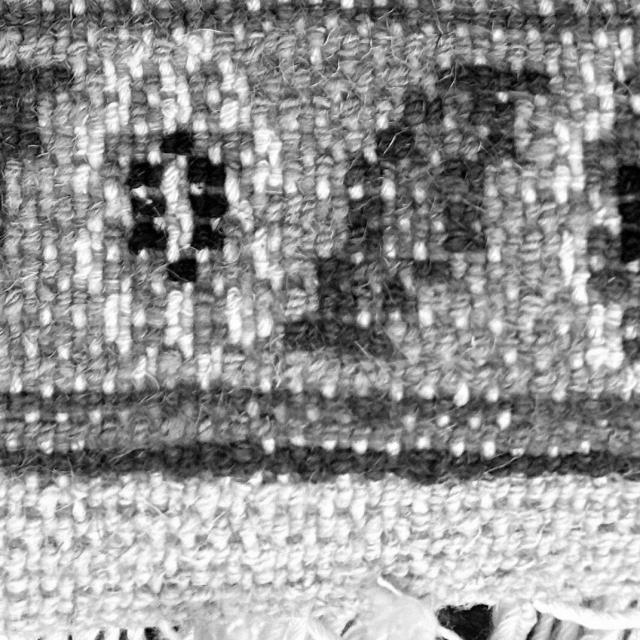Knot: (52, 158, 90, 216), (436, 604, 492, 640), (39, 248, 76, 300), (555, 122, 585, 180), (22, 280, 55, 329), (74, 117, 106, 167), (225, 282, 249, 346), (346, 164, 383, 204), (74, 227, 104, 274), (188, 74, 224, 112), (98, 158, 128, 202), (252, 280, 274, 340), (130, 220, 166, 256), (116, 354, 146, 397), (253, 114, 281, 160), (28, 152, 56, 196), (310, 200, 336, 247), (72, 199, 108, 232), (154, 346, 182, 388), (116, 30, 145, 70), (22, 356, 56, 390), (71, 70, 105, 104), (560, 30, 594, 64), (540, 210, 562, 261), (131, 134, 164, 168), (418, 262, 450, 296), (442, 93, 474, 126), (168, 246, 197, 282), (614, 111, 640, 151), (384, 395, 418, 425), (70, 450, 104, 480), (485, 274, 506, 322), (482, 104, 514, 135), (400, 32, 426, 70), (222, 346, 244, 390), (585, 338, 608, 380), (132, 190, 164, 220), (586, 0, 614, 34), (587, 227, 618, 257), (192, 217, 220, 250), (191, 192, 226, 218), (196, 348, 218, 389), (200, 444, 230, 474), (195, 481, 220, 517), (586, 478, 614, 510), (0, 28, 23, 66), (250, 483, 278, 514), (208, 514, 232, 550), (526, 134, 558, 161), (360, 360, 390, 388), (67, 36, 88, 76), (20, 230, 44, 265), (106, 134, 134, 164), (536, 332, 564, 362), (562, 203, 592, 231), (390, 219, 413, 255), (166, 281, 191, 314), (23, 319, 43, 360), (353, 284, 383, 311), (133, 323, 165, 348), (282, 158, 304, 194), (604, 307, 626, 342), (53, 362, 75, 397), (485, 227, 507, 262), (140, 374, 164, 406), (220, 92, 240, 130), (231, 482, 251, 520), (258, 352, 278, 390), (74, 390, 102, 417), (12, 132, 40, 159), (541, 254, 563, 288), (176, 380, 198, 414), (496, 166, 520, 197), (54, 422, 76, 455), (162, 132, 192, 156), (470, 296, 490, 332), (162, 414, 186, 444), (298, 133, 318, 169), (52, 132, 76, 162), (470, 332, 494, 362), (348, 198, 379, 221), (464, 262, 486, 294), (608, 27, 636, 52), (160, 94, 180, 129), (220, 586, 242, 617), (620, 362, 640, 396), (0, 420, 24, 448), (286, 321, 310, 349), (179, 508, 200, 540), (606, 273, 630, 301), (320, 359, 340, 392), (52, 96, 74, 126), (449, 23, 471, 53), (18, 392, 40, 422), (336, 96, 362, 121), (542, 42, 562, 74), (104, 228, 124, 260), (52, 290, 72, 322), (52, 390, 72, 422), (335, 475, 353, 510), (2, 165, 23, 195), (252, 194, 273, 224), (415, 129, 440, 154), (378, 131, 402, 157), (286, 281, 306, 312), (324, 79, 352, 101), (618, 166, 640, 194), (72, 336, 94, 364), (441, 365, 463, 393), (129, 105, 149, 135), (428, 214, 448, 244), (620, 200, 640, 230), (189, 158, 209, 188), (520, 287, 544, 312), (250, 66, 280, 86), (283, 224, 303, 254), (102, 261, 124, 288), (448, 203, 470, 230), (512, 101, 534, 128), (162, 162, 180, 195), (553, 1, 574, 29), (488, 136, 512, 160), (150, 474, 168, 506), (242, 355, 260, 387), (352, 480, 370, 512), (587, 306, 605, 338), (441, 173, 466, 196), (475, 364, 498, 389), (2, 292, 24, 318), (0, 254, 22, 280), (8, 336, 27, 366), (39, 490, 58, 520), (621, 233, 640, 263), (625, 77, 640, 115), (36, 66, 56, 94), (52, 462, 72, 490), (0, 355, 14, 395), (314, 482, 334, 510), (418, 366, 438, 394), (512, 351, 532, 379), (216, 55, 236, 83), (152, 34, 174, 59), (0, 228, 22, 253), (229, 388, 250, 414), (282, 368, 303, 394), (526, 452, 547, 478), (424, 100, 442, 130), (450, 302, 470, 329), (416, 417, 434, 447), (570, 358, 588, 388), (70, 0, 88, 30), (159, 60, 177, 90), (306, 350, 324, 380), (232, 466, 262, 484), (130, 415, 149, 443), (499, 364, 518, 392), (128, 162, 150, 186), (34, 422, 56, 446), (330, 157, 352, 181), (404, 99, 425, 124), (562, 70, 583, 95), (353, 260, 374, 285), (436, 68, 454, 97), (272, 512, 290, 541), (206, 398, 224, 427), (84, 368, 104, 394), (34, 34, 54, 60), (17, 100, 37, 126), (586, 400, 612, 420), (530, 373, 556, 393), (504, 314, 530, 334), (99, 421, 118, 448), (218, 478, 234, 510), (57, 518, 73, 550), (147, 408, 163, 440), (505, 273, 522, 303), (164, 623, 194, 640), (520, 229, 542, 252), (330, 452, 352, 475), (36, 92, 54, 120), (303, 389, 321, 417), (514, 394, 535, 418), (444, 235, 472, 253), (230, 442, 254, 463), (71, 302, 89, 330), (386, 318, 406, 343), (222, 239, 242, 264), (318, 260, 338, 285), (483, 200, 503, 225), (374, 100, 390, 131), (386, 277, 405, 303), (372, 37, 390, 64), (334, 514, 352, 541), (386, 66, 408, 88), (382, 258, 404, 280), (379, 160, 401, 182), (354, 63, 374, 87), (214, 2, 234, 26), (464, 164, 484, 188), (520, 262, 540, 286), (572, 254, 592, 278), (443, 132, 463, 156), (276, 34, 296, 58), (498, 334, 518, 358), (289, 504, 306, 532), (623, 312, 640, 340), (340, 362, 358, 388), (352, 429, 370, 455), (434, 332, 452, 358), (434, 418, 452, 444), (520, 178, 538, 204), (288, 413, 306, 439), (542, 480, 560, 506), (180, 446, 198, 472), (90, 554, 108, 580), (146, 448, 164, 474), (6, 578, 28, 599), (141, 78, 162, 100), (0, 67, 20, 90), (250, 416, 270, 439), (98, 34, 118, 57), (193, 545, 213, 568), (7, 537, 26, 561), (391, 520, 410, 544), (622, 337, 640, 362), (497, 400, 512, 430), (286, 547, 304, 572), (364, 233, 382, 258), (387, 12, 405, 37), (322, 318, 340, 343), (232, 412, 250, 437), (420, 68, 436, 96), (418, 331, 434, 359), (331, 202, 348, 228), (152, 4, 174, 24), (608, 432, 630, 452), (254, 570, 274, 592), (160, 585, 182, 605), (40, 546, 59, 569), (186, 7, 205, 30), (371, 311, 386, 340), (268, 224, 282, 255), (8, 478, 26, 502), (526, 478, 544, 502), (448, 254, 466, 278), (330, 179, 348, 203), (386, 430, 402, 457), (230, 2, 248, 26), (403, 364, 421, 388), (146, 108, 164, 132), (191, 110, 209, 134), (306, 318, 322, 345), (364, 536, 382, 560), (365, 514, 383, 538), (8, 598, 28, 619), (350, 36, 370, 57), (484, 168, 498, 198), (76, 556, 90, 586), (472, 66, 492, 87), (467, 384, 482, 412), (428, 245, 450, 264), (315, 153, 334, 175), (101, 484, 120, 506), (402, 340, 421, 362), (198, 416, 214, 442), (524, 18, 540, 44), (368, 480, 384, 506), (318, 514, 334, 540), (512, 452, 528, 478), (186, 32, 204, 55), (507, 487, 525, 510), (472, 43, 490, 66), (224, 147, 242, 170), (347, 221, 365, 244), (324, 29, 342, 52), (118, 564, 136, 587), (418, 398, 436, 421), (306, 28, 326, 48), (380, 179, 396, 204), (393, 198, 413, 218), (214, 36, 234, 56), (584, 168, 604, 188), (586, 286, 606, 306), (52, 15, 71, 36), (411, 218, 429, 240), (469, 24, 491, 42), (280, 110, 298, 132), (615, 1, 637, 19), (482, 416, 500, 438), (464, 486, 482, 508), (289, 484, 307, 506), (324, 398, 346, 416), (370, 336, 388, 358), (226, 175, 240, 203), (183, 481, 198, 507), (555, 368, 570, 394), (274, 386, 290, 410), (210, 564, 226, 588), (402, 302, 418, 326), (331, 138, 347, 162), (276, 3, 296, 22), (345, 132, 363, 153), (85, 1, 106, 19), (291, 70, 312, 88), (580, 94, 601, 112), (165, 447, 183, 468), (338, 324, 356, 345), (540, 398, 557, 420), (623, 402, 640, 424), (354, 13, 370, 36), (362, 142, 378, 165), (369, 6, 392, 22), (258, 396, 274, 419), (135, 481, 151, 504), (168, 483, 184, 506), (389, 364, 402, 392), (296, 114, 314, 134), (338, 15, 356, 35), (7, 514, 25, 534), (506, 50, 526, 68), (339, 58, 357, 78), (24, 514, 42, 534), (434, 308, 452, 328), (54, 66, 72, 86), (84, 430, 99, 454), (505, 28, 527, 44), (518, 1, 540, 17), (72, 500, 88, 522), (26, 594, 42, 616), (26, 548, 42, 570), (450, 418, 466, 440), (316, 176, 330, 201), (626, 511, 640, 536), (370, 430, 384, 455), (278, 99, 303, 113), (419, 305, 434, 328), (558, 399, 573, 422), (246, 22, 264, 41), (117, 502, 136, 520), (293, 48, 310, 68), (436, 50, 453, 70), (412, 494, 429, 514), (410, 514, 430, 531), (168, 1, 194, 14), (58, 576, 74, 597), (164, 550, 178, 574), (624, 458, 640, 479), (44, 238, 58, 262), (145, 311, 166, 327), (452, 1, 474, 16), (0, 323, 10, 356), (228, 544, 243, 566), (336, 308, 354, 326), (192, 569, 210, 587), (0, 98, 18, 116), (113, 0, 131, 18), (244, 548, 262, 566), (56, 502, 74, 520), (416, 198, 434, 216), (488, 48, 506, 66), (322, 51, 339, 70), (246, 396, 260, 419), (357, 310, 373, 330), (120, 482, 136, 502), (620, 494, 640, 510), (42, 517, 58, 537), (226, 563, 242, 583), (36, 471, 52, 491), (42, 597, 58, 617), (24, 488, 40, 508), (593, 433, 608, 454), (464, 250, 486, 264), (404, 0, 418, 22), (589, 418, 611, 432), (89, 506, 106, 524), (413, 242, 428, 262), (306, 14, 326, 29), (22, 1, 42, 16), (390, 101, 405, 121), (208, 146, 223, 166), (306, 418, 321, 438), (314, 110, 330, 128), (242, 531, 258, 549), (316, 132, 332, 150), (420, 18, 436, 36), (480, 492, 496, 510), (74, 628, 98, 640), (198, 0, 218, 14), (633, 27, 640, 67), (172, 24, 186, 44), (403, 433, 416, 454), (436, 20, 453, 36), (402, 418, 418, 435), (562, 420, 578, 437), (130, 91, 148, 106), (450, 442, 465, 460), (468, 416, 483, 434), (573, 493, 588, 511), (165, 532, 180, 550), (260, 438, 275, 456), (559, 440, 577, 455), (483, 440, 498, 458), (282, 134, 300, 149), (418, 0, 437, 14), (26, 575, 40, 594), (102, 628, 124, 640), (275, 416, 287, 438), (233, 23, 246, 43), (25, 471, 38, 491), (74, 520, 90, 536), (322, 436, 338, 452), (72, 483, 88, 499), (570, 387, 587, 402), (435, 0, 453, 14), (54, 1, 72, 15), (106, 566, 120, 584), (338, 384, 352, 402), (91, 578, 106, 594), (0, 206, 8, 236), (338, 434, 350, 454), (0, 130, 12, 150), (58, 599, 74, 614), (41, 578, 58, 592), (540, 1, 554, 18), (335, 118, 352, 132), (472, 1, 488, 15), (576, 420, 592, 434), (0, 394, 10, 416), (143, 628, 161, 640), (0, 476, 8, 503), (354, 0, 372, 12), (260, 2, 278, 14), (629, 276, 640, 295), (492, 26, 505, 42), (0, 502, 11, 520), (0, 550, 11, 568), (246, 1, 260, 15), (352, 118, 366, 132), (275, 438, 289, 452), (310, 48, 322, 64), (468, 440, 480, 456), (290, 437, 306, 449), (578, 440, 590, 456), (306, 437, 320, 450), (624, 629, 640, 640), (498, 440, 510, 454), (0, 2, 8, 18), (342, 1, 354, 11)
